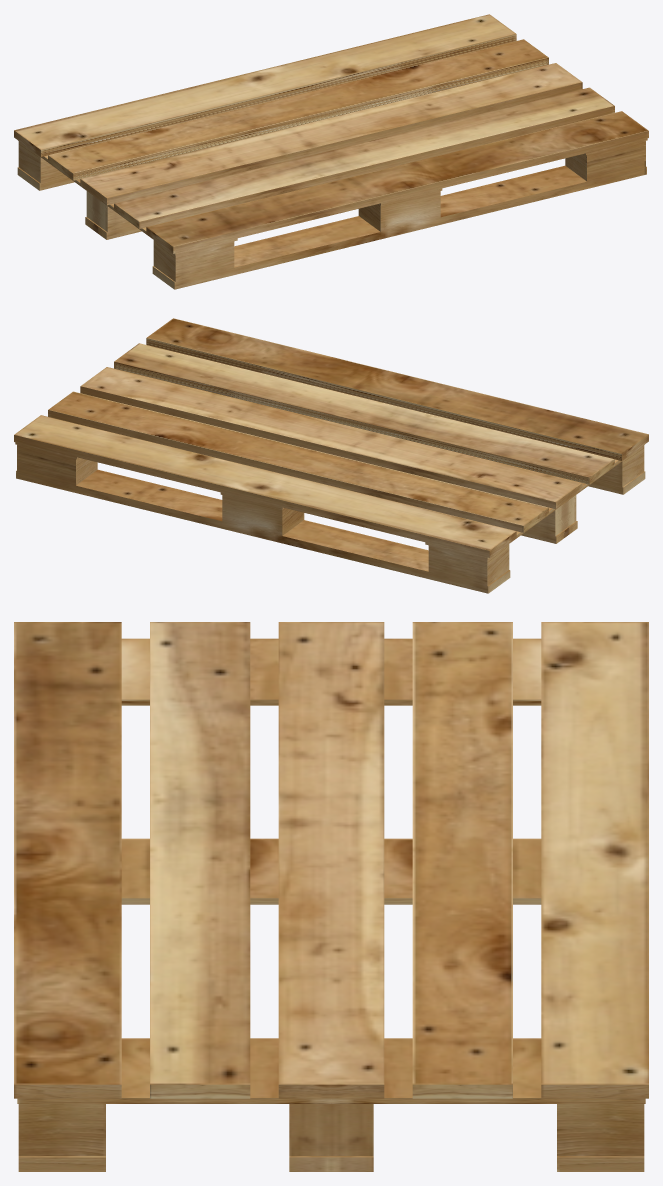
File: palette.fbx
The picture shows the model from 3 angles, top to bottom: view 1: azimuth 30°, elevation 25°; view 2: azimuth 150°, elevation 25°; view 3: azimuth 270°, elevation 25°; orthographic projection. The views are drawn at different scales.
Visible parts, largest first — view 1: Cube; view 2: Cube; view 3: Cube.
Boxes of the visible parts, x1,y1,x2,y2 form: Cube: [14, 14, 648, 289]; Cube: [14, 318, 648, 593]; Cube: [14, 622, 648, 1171].
Size of the model in its own units: 4.93 by 0.4386 by 2.86.
1 material, 1 textured.
